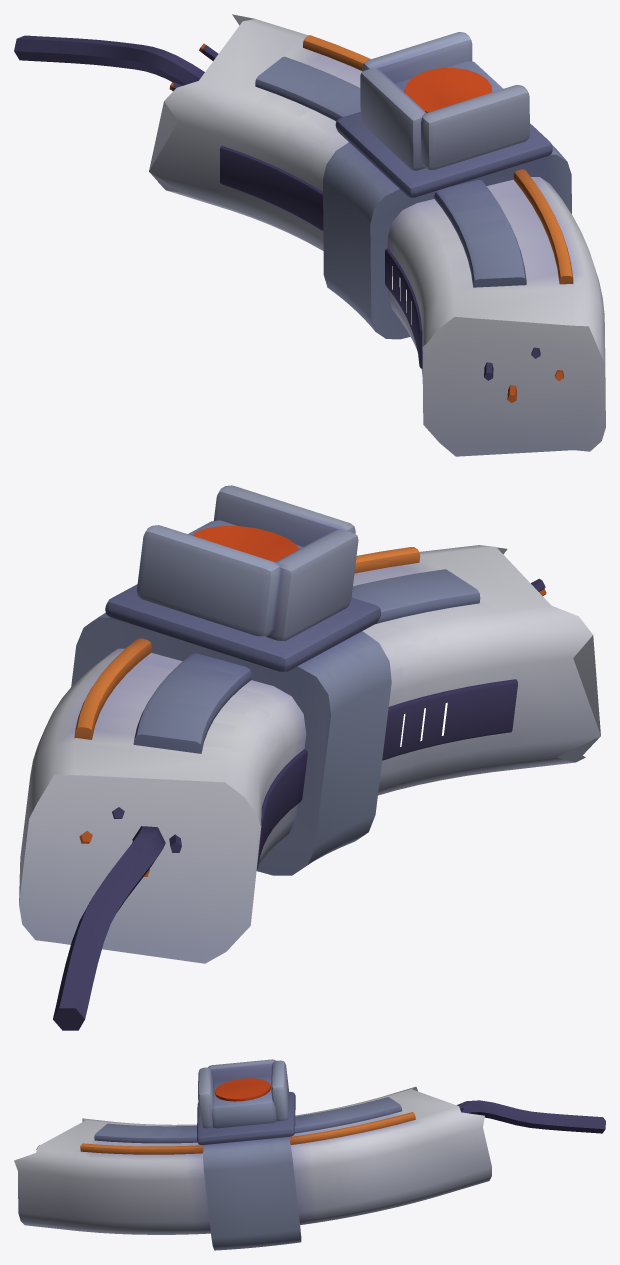
File: hub_loom_ring_fragment_a.glb
3 views of the same model, one above another, from view 1: azimuth 30°, elevation 25°; view 2: azimuth 150°, elevation 25°; view 3: azimuth 270°, elevation 25° (orthographic). The views are drawn at different scales.
Visible parts, largest first — view 1: hub_loom_ring_fragment_a; view 2: hub_loom_ring_fragment_a; view 3: hub_loom_ring_fragment_a.
Boxes of the visible parts, x1,y1,x2,y2 form: hub_loom_ring_fragment_a: (14,14,605,456); hub_loom_ring_fragment_a: (19,485,600,1030); hub_loom_ring_fragment_a: (14,1059,605,1250).
Bounding box in the file's own units: 2.77 × 2.67 × 8.63.
